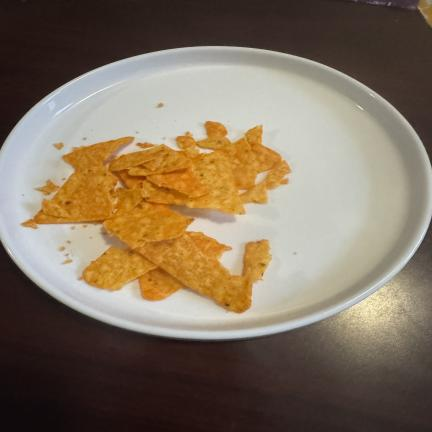chips: (22, 122, 290, 312), (138, 234, 252, 312), (143, 151, 244, 214), (83, 248, 182, 300), (35, 166, 117, 223), (104, 201, 193, 248), (185, 151, 244, 214), (83, 247, 156, 290), (110, 145, 191, 175), (63, 137, 134, 171), (221, 138, 259, 189), (147, 168, 208, 197), (246, 126, 281, 172), (110, 145, 168, 170), (139, 268, 182, 300), (140, 268, 182, 300), (186, 232, 231, 259), (141, 180, 189, 204), (243, 240, 271, 280), (197, 122, 230, 149), (265, 161, 291, 189), (116, 188, 142, 211), (240, 182, 267, 203), (118, 170, 145, 188), (177, 132, 196, 149), (36, 180, 59, 194), (21, 219, 38, 228), (137, 142, 155, 148), (53, 143, 63, 149), (61, 259, 72, 264)
